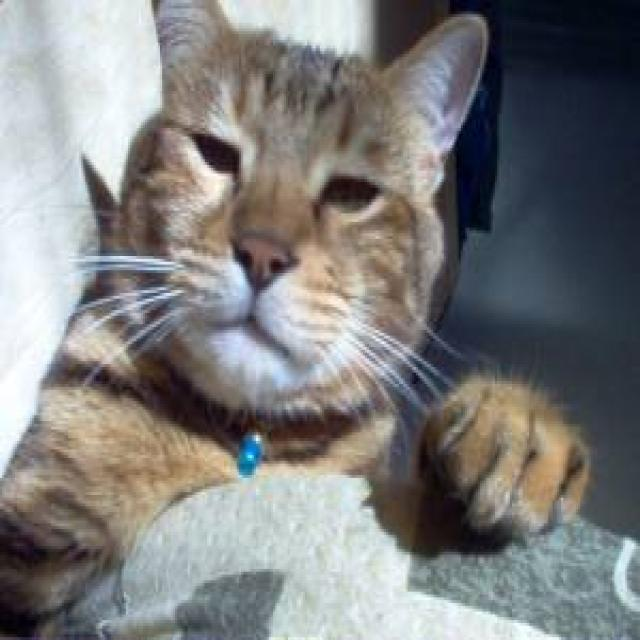Bengal: (147, 0, 484, 404)
